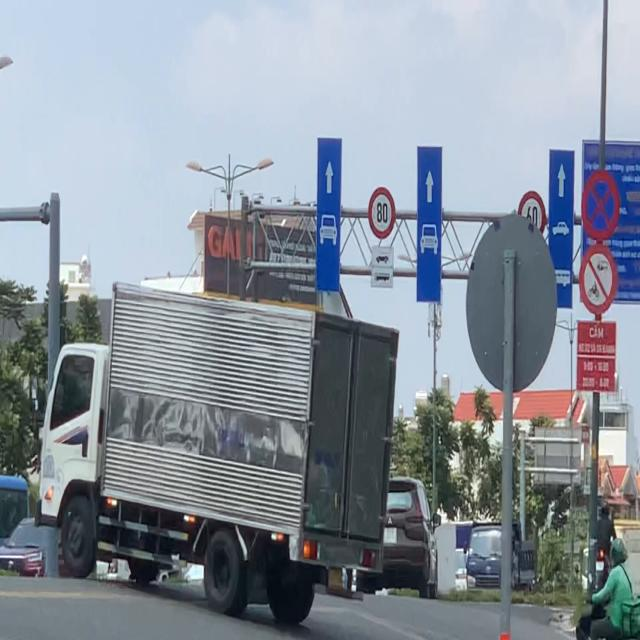Cam con lai: (578, 243, 618, 318)
Cam dung va do: (580, 169, 622, 243)
Toc do toi da: (367, 186, 397, 241), (514, 189, 546, 231)
